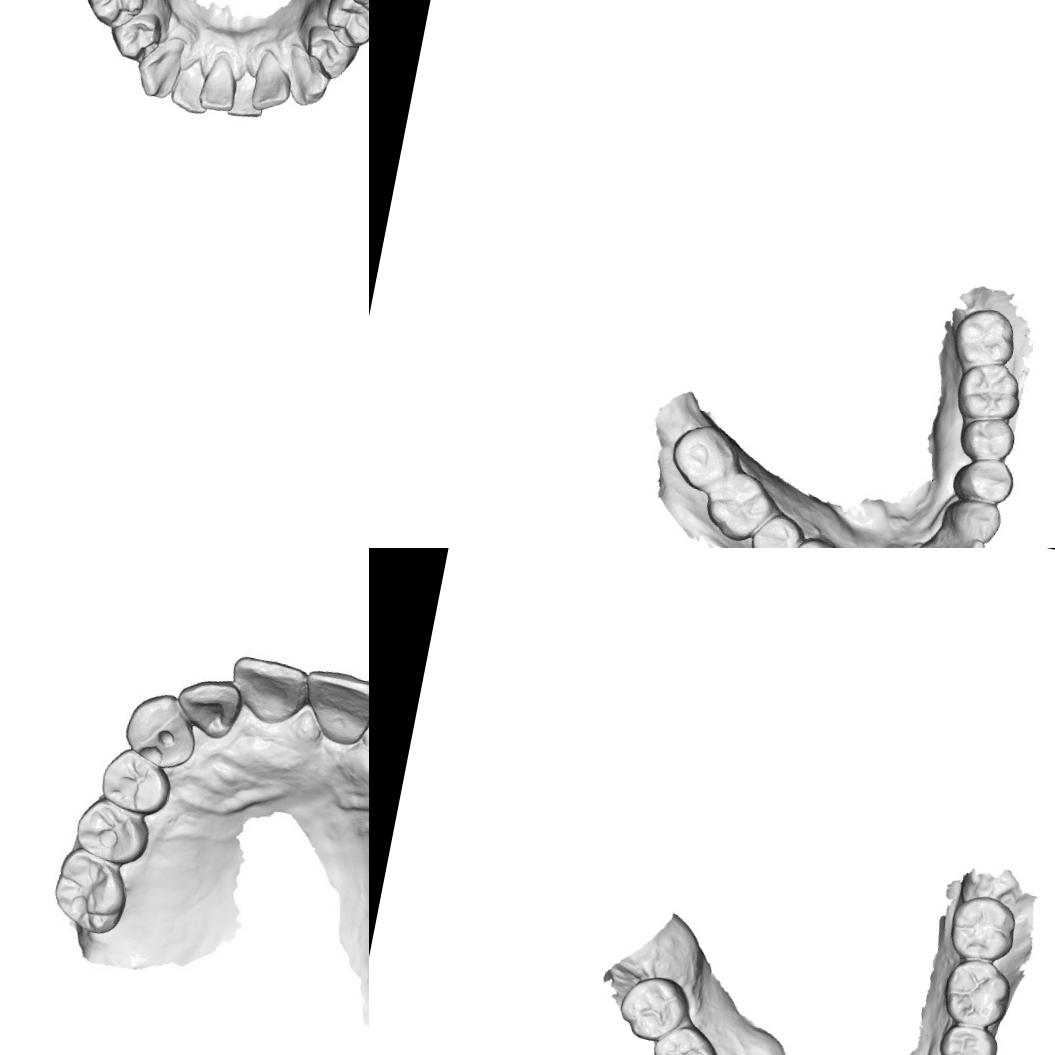canine: (122, 690, 194, 764), (131, 34, 183, 100), (941, 492, 1004, 546), (284, 54, 334, 111)
incisor: (296, 663, 369, 754), (228, 653, 309, 729), (176, 677, 238, 736), (247, 60, 294, 115), (168, 64, 212, 116), (225, 76, 268, 122), (196, 68, 238, 114), (932, 529, 987, 548)
molar: (696, 464, 780, 548), (48, 848, 133, 930), (664, 415, 744, 497), (613, 969, 693, 1047), (939, 952, 1017, 1030), (950, 355, 1028, 430), (946, 300, 1022, 376), (944, 890, 1019, 966), (647, 1020, 722, 1055)
premolar: (72, 796, 148, 863), (95, 748, 170, 814), (300, 19, 364, 83), (956, 410, 1019, 468), (952, 452, 1017, 507), (105, 6, 165, 65), (745, 506, 808, 548), (320, 0, 369, 52), (79, 0, 150, 34), (935, 1019, 1000, 1055), (780, 531, 837, 548)
